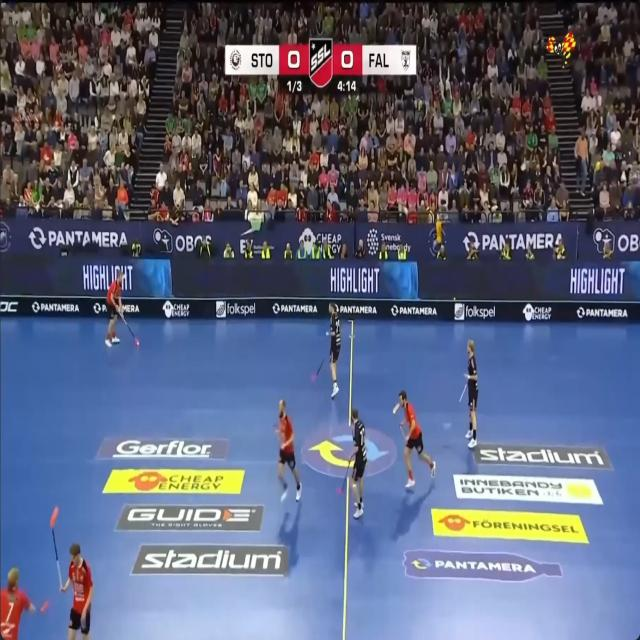Balls: (134, 337, 139, 347)
player: (399, 390, 435, 488), (61, 543, 93, 639), (276, 399, 301, 501), (0, 567, 35, 639), (351, 407, 367, 518), (465, 339, 478, 448), (327, 302, 341, 398), (105, 270, 122, 346)
stick: (50, 507, 61, 588), (337, 455, 353, 493), (120, 314, 139, 346), (312, 358, 324, 379), (459, 382, 467, 401), (399, 424, 406, 439), (392, 403, 400, 414), (40, 601, 48, 612)
